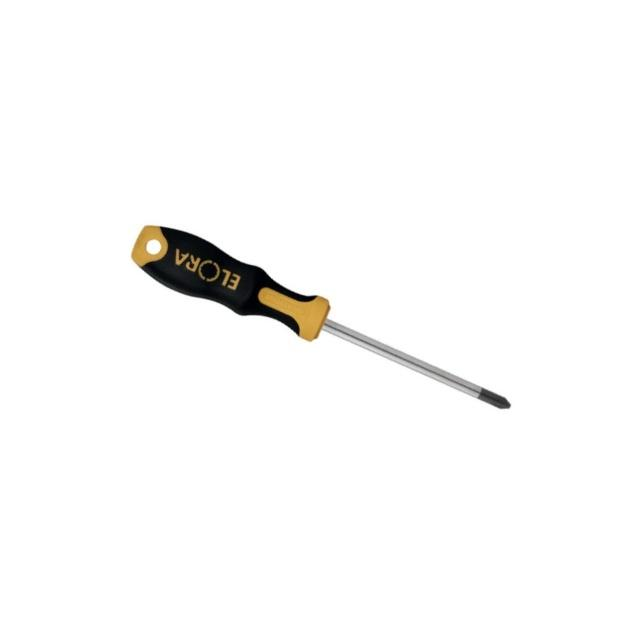screwdriver: (120, 124, 512, 518)
